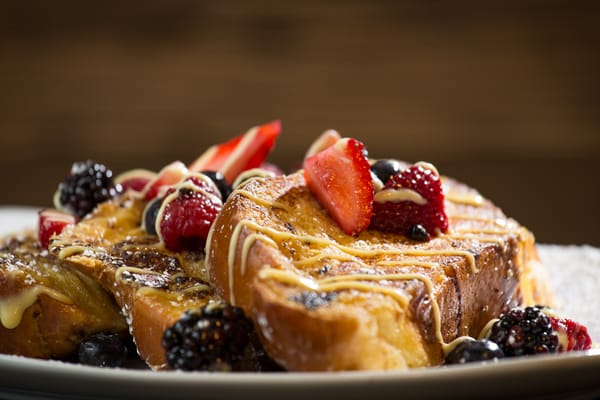salad: (0, 242, 130, 359)
sushi: (206, 137, 546, 371)
